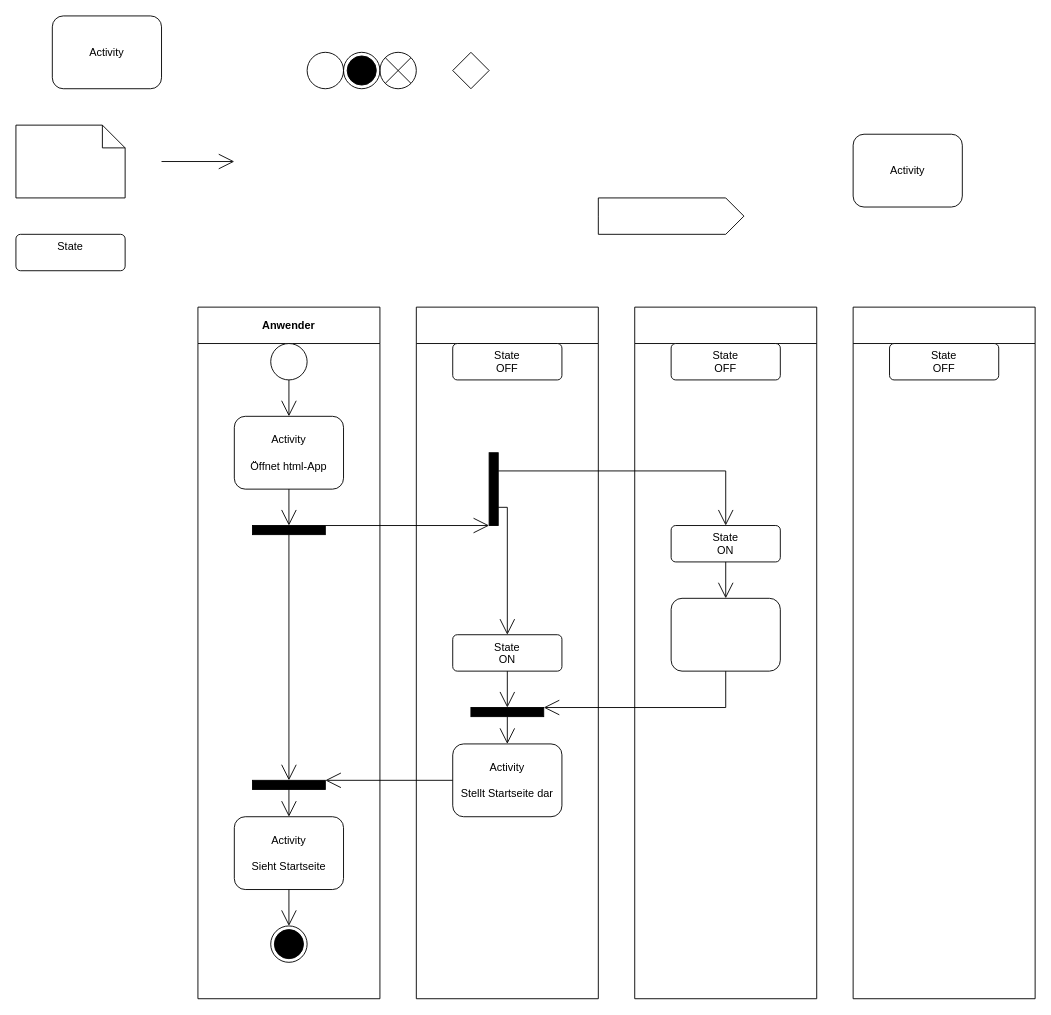
This 1051x1015 diagram has some shape labels left out. Here are the shapes that lost their labels. From the top down, the box of each, then its label:
(15, 124, 125, 198): Comment
(597, 197, 744, 234): SendObjectAction1
(415, 306, 598, 999): GUI
(670, 597, 780, 671): Activity Sendet Startseite an GUI
(634, 306, 817, 999): Logik
(852, 306, 1035, 999): Datenbank
